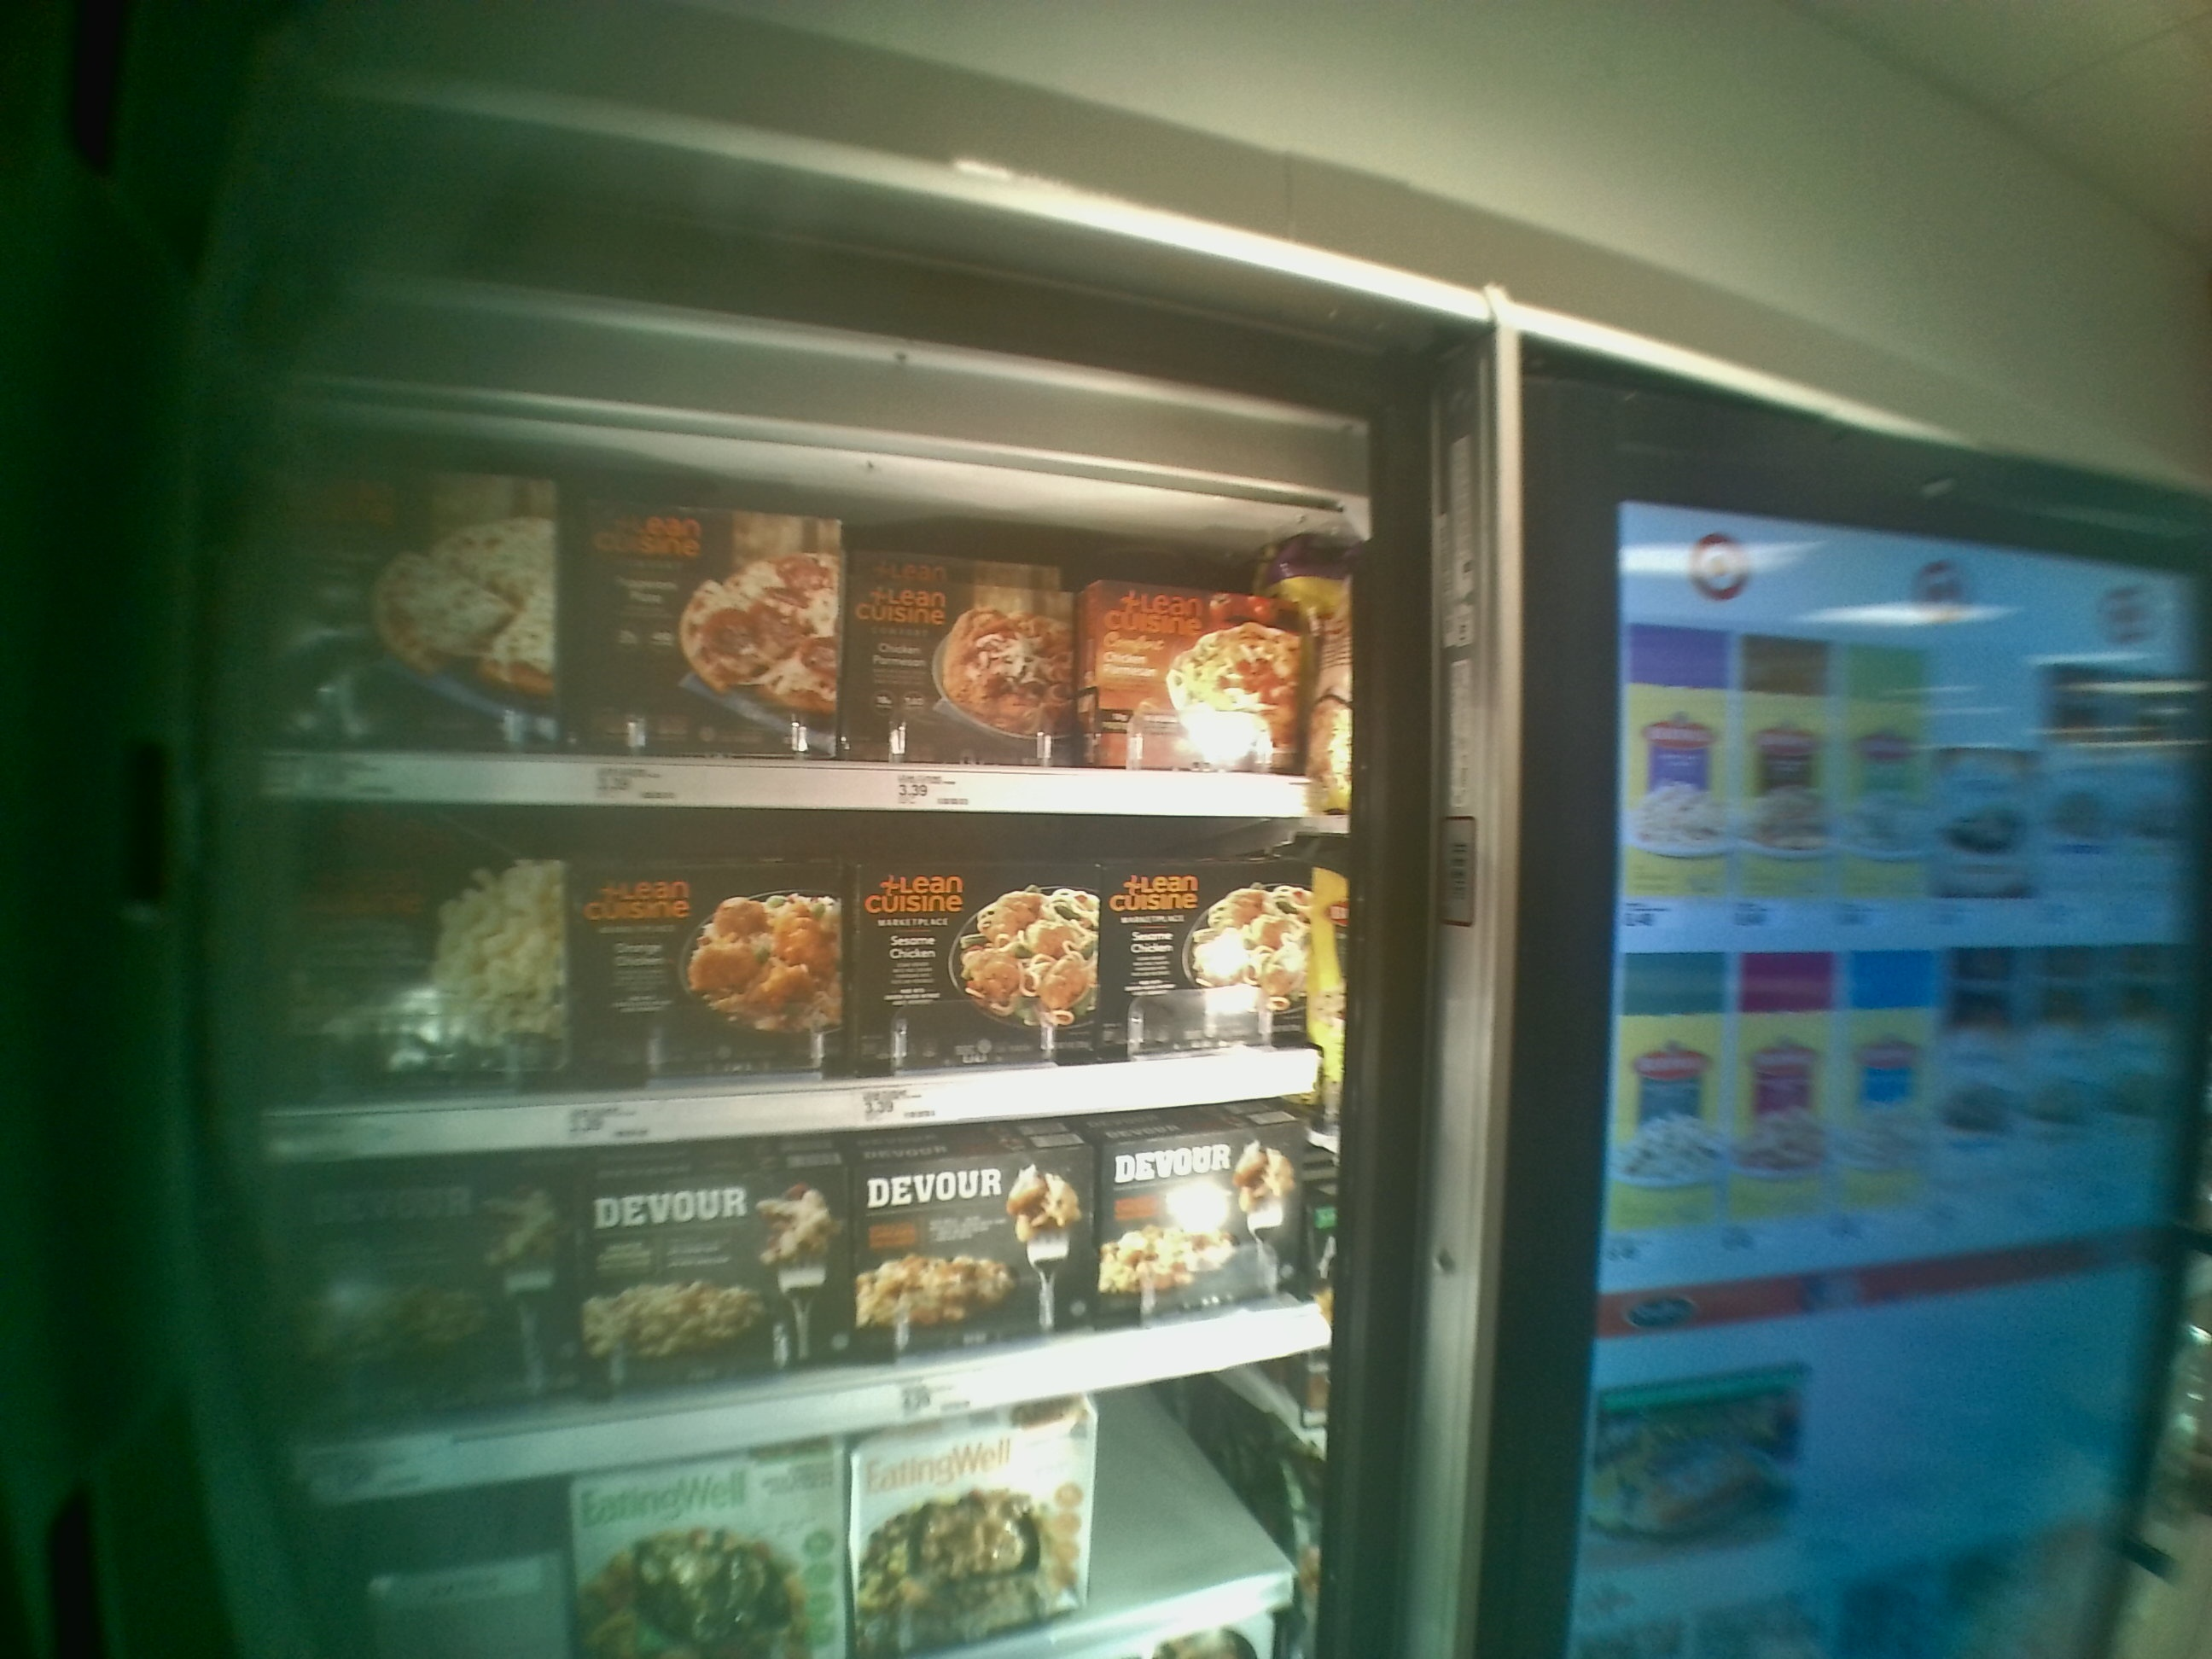shelf: (256, 385, 1331, 817), (235, 807, 1338, 1168)
